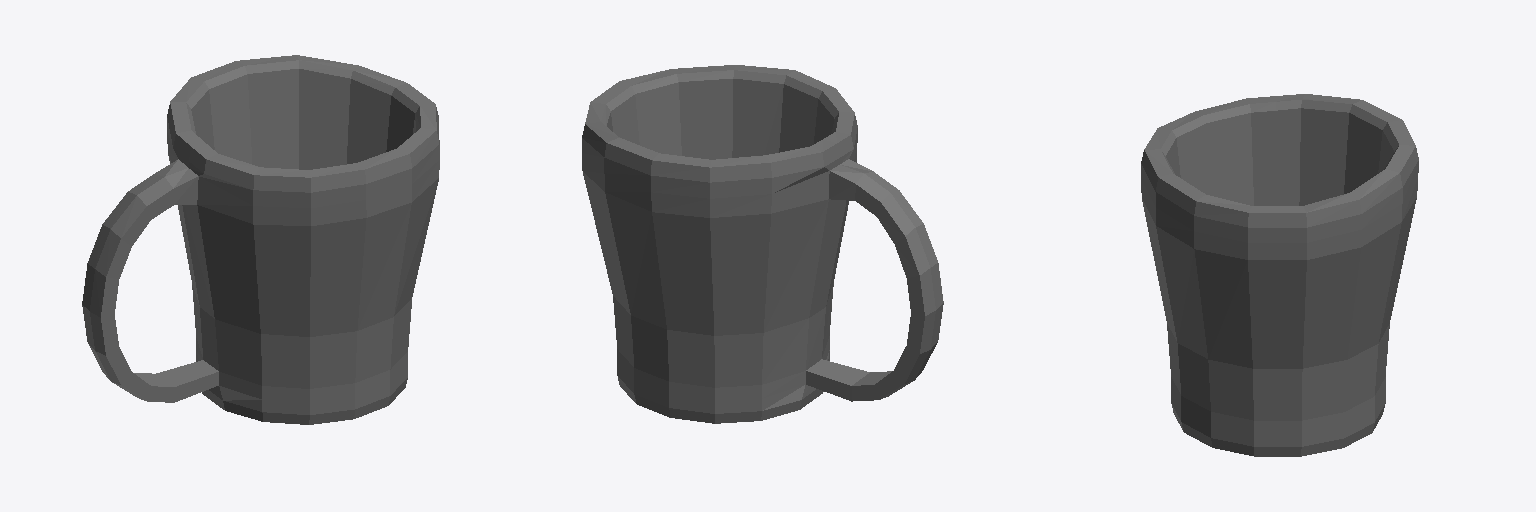
File: Cup_geo_kitchen.obj
3 renders of one model, left to right at view 1: azimuth 30°, elevation 25°; view 2: azimuth 150°, elevation 25°; view 3: azimuth 270°, elevation 25°, orthographic.
Visible parts, largest first — view 1: Cup_geo_kitchen1:mug03; view 2: Cup_geo_kitchen1:mug03; view 3: Cup_geo_kitchen1:mug03.
Boxes of the visible parts, box(x1,y1,x2,y2) form: Cup_geo_kitchen1:mug03: box(82, 55, 439, 424); Cup_geo_kitchen1:mug03: box(582, 65, 943, 423); Cup_geo_kitchen1:mug03: box(1141, 94, 1418, 456).
Bounding box in the file's own units: 216 × 167 × 155.